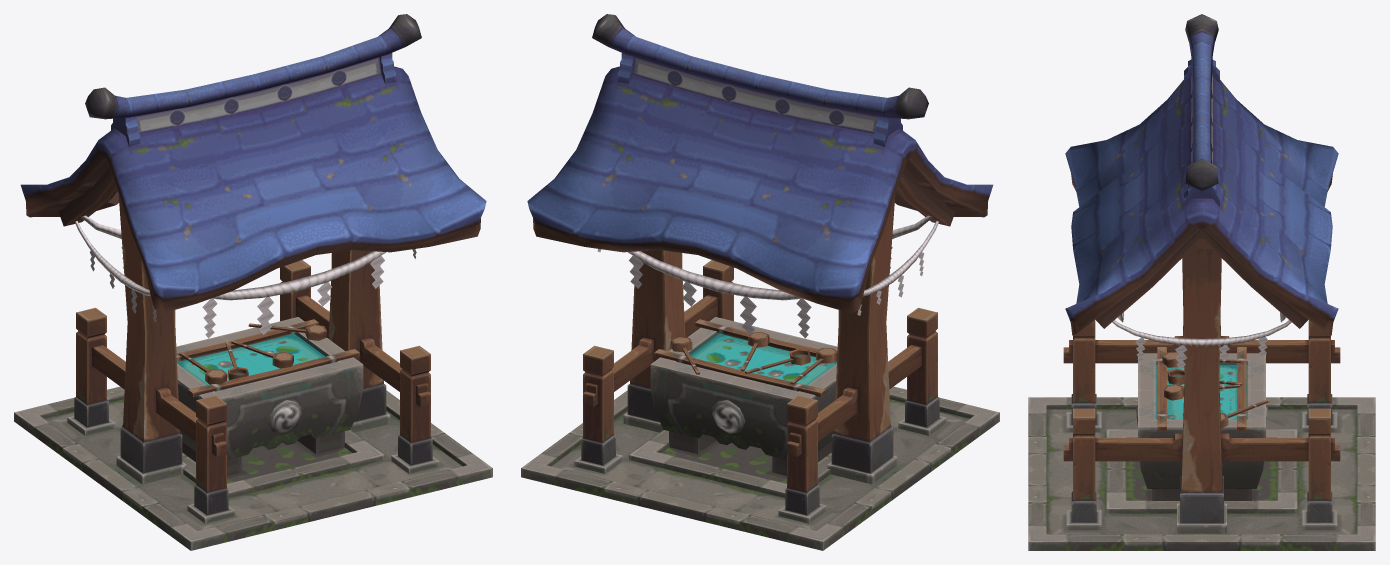
File: shrine_jz007_01.FBX
3 views of the same model, side by side, from view 1: azimuth 30°, elevation 25°; view 2: azimuth 150°, elevation 25°; view 3: azimuth 270°, elevation 25° (orthographic).
Visible parts, largest first — view 1: shrine_jz007_01; view 2: shrine_jz007_01; view 3: shrine_jz007_01.
Part boxes in pixels (x1,y1,x2,y2): shrine_jz007_01: (14,14,492,550); shrine_jz007_01: (521,14,999,550); shrine_jz007_01: (1028,14,1375,550).
Size of the model in its own units: 314 by 359 by 289.
Materials: 1 (1 with a texture image).
